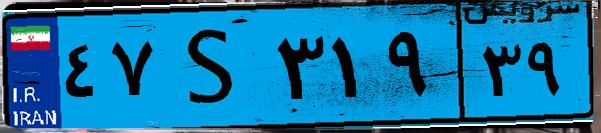1: (330, 28, 385, 110)
3: (270, 28, 330, 110), (475, 38, 525, 113)
4: (57, 26, 110, 100)
7: (110, 28, 158, 98)
9: (385, 28, 445, 110), (525, 38, 570, 115)
S: (158, 12, 270, 120)
